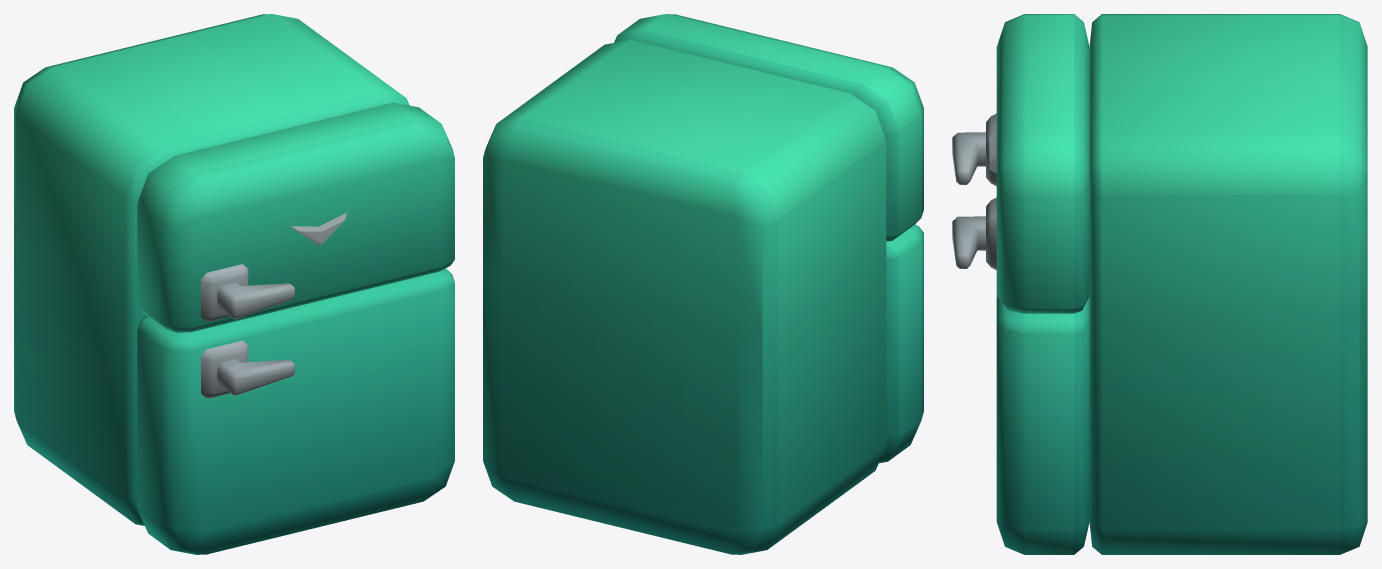
The model's file is fridge_A_decorated.gltf.
The picture shows the model from 3 angles, left to right: view 1: azimuth 30°, elevation 25°; view 2: azimuth 150°, elevation 25°; view 3: azimuth 270°, elevation 25°; orthographic projection. The views are drawn at different scales.
Visible parts, largest first — view 1: fridge_A_decorated, fridge_A_decorated_door_bottom, fridge_A_decorated_door_top; view 2: fridge_A_decorated, fridge_A_decorated_door_top, fridge_A_decorated_door_bottom; view 3: fridge_A_decorated, fridge_A_decorated_door_top, fridge_A_decorated_door_bottom.
Boxes of the visible parts, x1,y1,x2,y2 form: fridge_A_decorated: [14, 14, 409, 525]; fridge_A_decorated_door_bottom: [137, 268, 454, 554]; fridge_A_decorated_door_top: [137, 102, 454, 332]; fridge_A_decorated: [483, 39, 886, 554]; fridge_A_decorated_door_top: [614, 14, 923, 241]; fridge_A_decorated_door_bottom: [879, 224, 923, 463]; fridge_A_decorated: [1089, 14, 1367, 554]; fridge_A_decorated_door_top: [952, 14, 1089, 313]; fridge_A_decorated_door_bottom: [952, 197, 1089, 554].
Bounding box in the file's own units: 2 × 2.5 × 2.24.
1 material, 1 textured.
